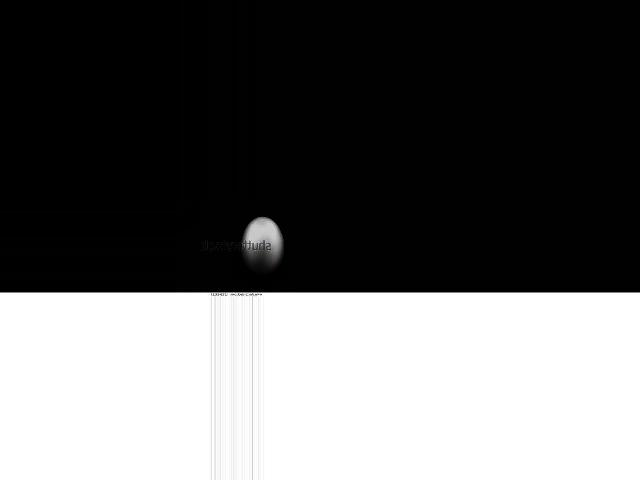egg: (241, 216, 284, 275)
